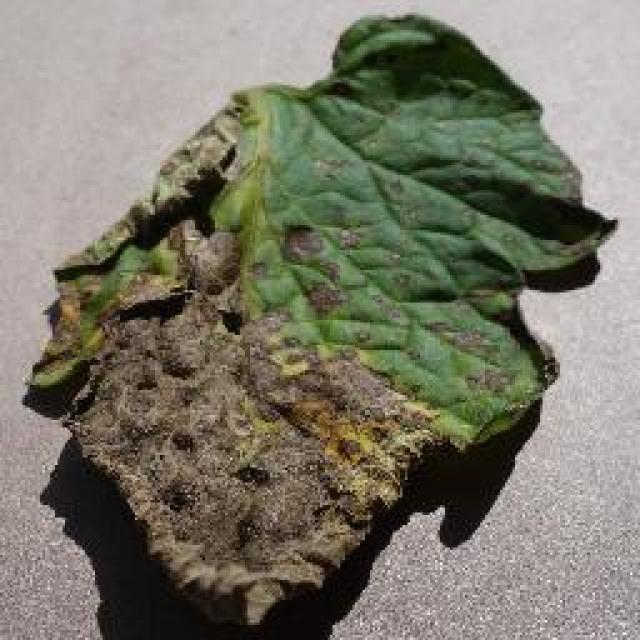Tomato___Early_blight: (22, 9, 625, 634)
